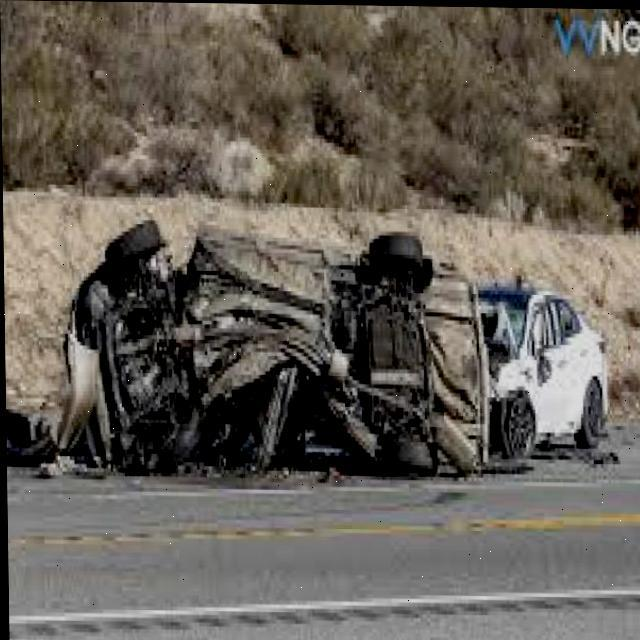multiple_accident: (40, 204, 485, 506)
